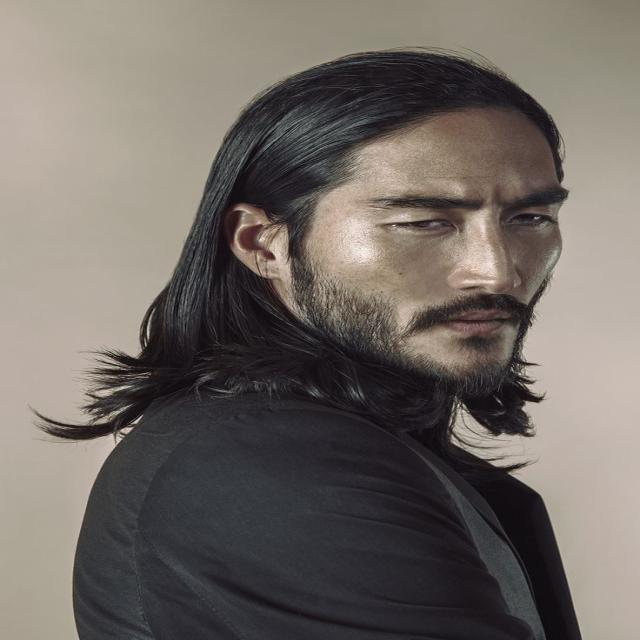earlobe: (256, 258, 284, 279)
eye: (391, 218, 454, 230), (506, 213, 550, 224)
nose: (460, 284, 528, 312)
wholeear: (220, 204, 284, 278)
